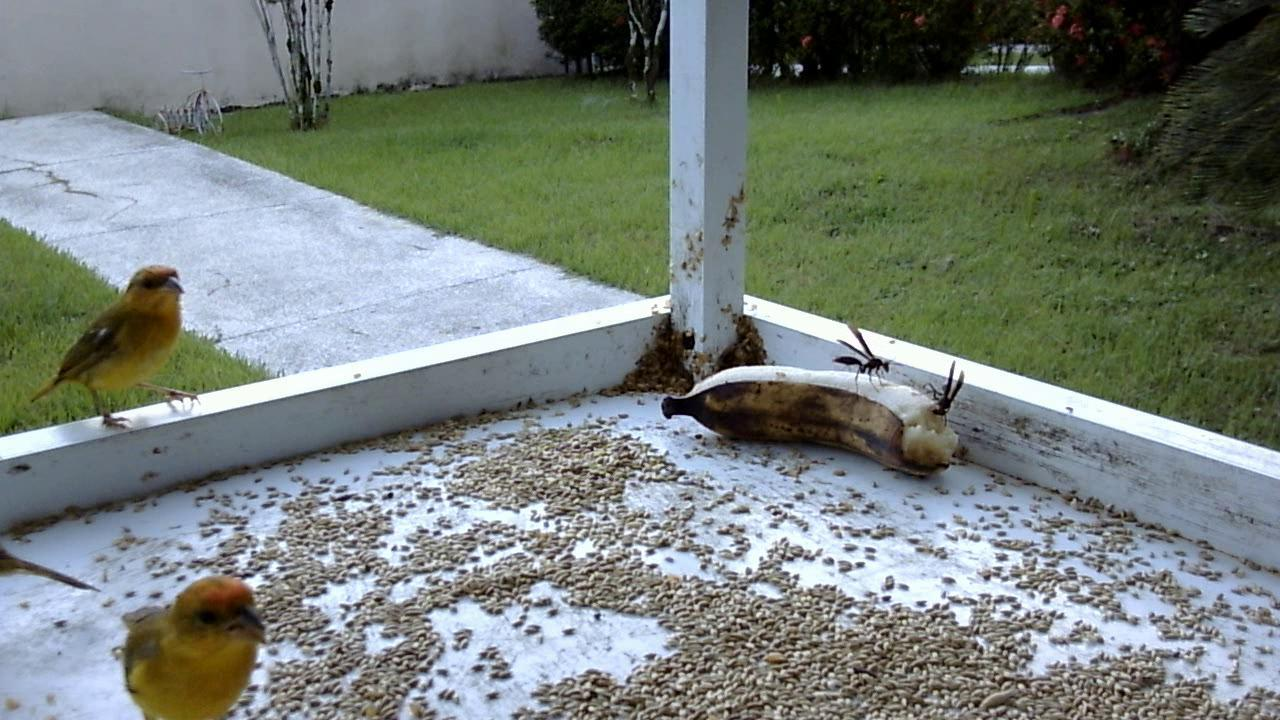canario_do_amazonas: (23, 258, 215, 442), (105, 567, 282, 720)
